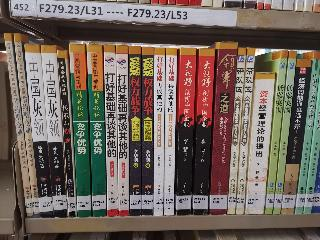book-spine: (3, 32, 34, 218), (23, 44, 55, 220), (11, 33, 41, 217), (207, 41, 238, 217), (279, 58, 311, 217), (290, 51, 320, 215), (41, 44, 68, 219), (243, 71, 275, 216), (69, 42, 93, 218), (84, 43, 108, 218), (264, 50, 289, 216), (191, 47, 215, 218), (234, 48, 258, 215), (273, 50, 297, 216), (175, 48, 197, 216), (226, 48, 247, 215), (58, 51, 76, 218), (163, 47, 179, 217), (103, 45, 118, 217), (115, 44, 129, 217), (140, 47, 154, 217), (152, 48, 166, 216), (129, 47, 142, 218)
